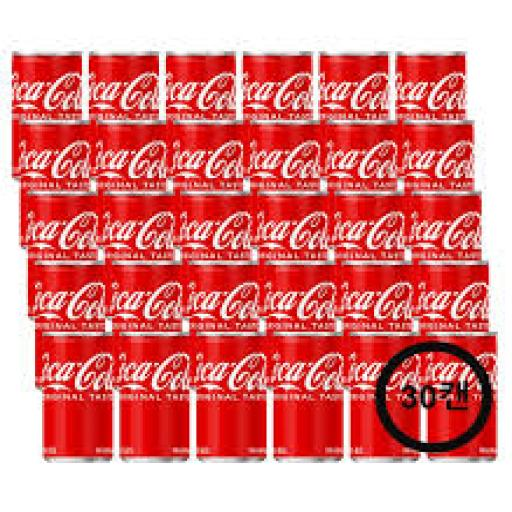Coca: (32, 322, 119, 466), (183, 186, 258, 341), (394, 47, 476, 186), (334, 190, 415, 328), (189, 326, 265, 470), (424, 324, 502, 464), (404, 187, 484, 323), (116, 325, 190, 472), (110, 258, 191, 392), (341, 323, 415, 469), (242, 44, 317, 188), (104, 187, 180, 328), (401, 114, 479, 251), (32, 257, 109, 395), (272, 324, 346, 467), (6, 46, 87, 176), (258, 190, 334, 328), (95, 116, 173, 249), (25, 187, 100, 325), (18, 114, 92, 252), (326, 114, 400, 252), (319, 47, 393, 185), (89, 46, 161, 186), (420, 258, 494, 394), (166, 46, 240, 181), (174, 115, 248, 249), (250, 114, 324, 246), (343, 258, 417, 387), (188, 260, 257, 398), (266, 260, 336, 392)
